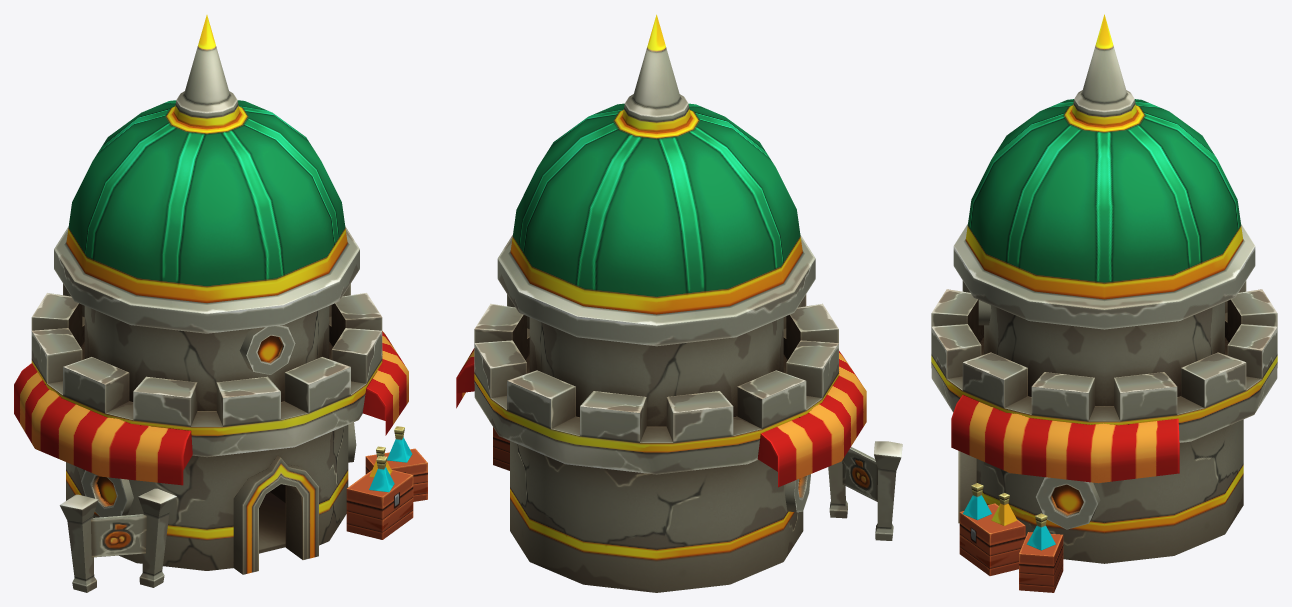
File: building_20.FBX
The picture shows the model from 3 angles, left to right: view 1: azimuth 30°, elevation 25°; view 2: azimuth 150°, elevation 25°; view 3: azimuth 270°, elevation 25°; orthographic projection. The views are drawn at different scales.
Visible parts, largest first — view 1: Object001; view 2: Object001; view 3: Object001.
Part boxes in pixels (left/top/right/bottom): Object001: left=14, top=15, right=427, bottom=592; Object001: left=456, top=14, right=902, bottom=592; Object001: left=931, top=14, right=1277, bottom=592.
Bounding box in the file's own units: 605 × 768 × 490.
